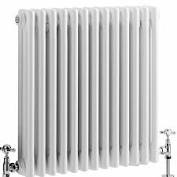Radiator: (3, 3, 174, 177)
